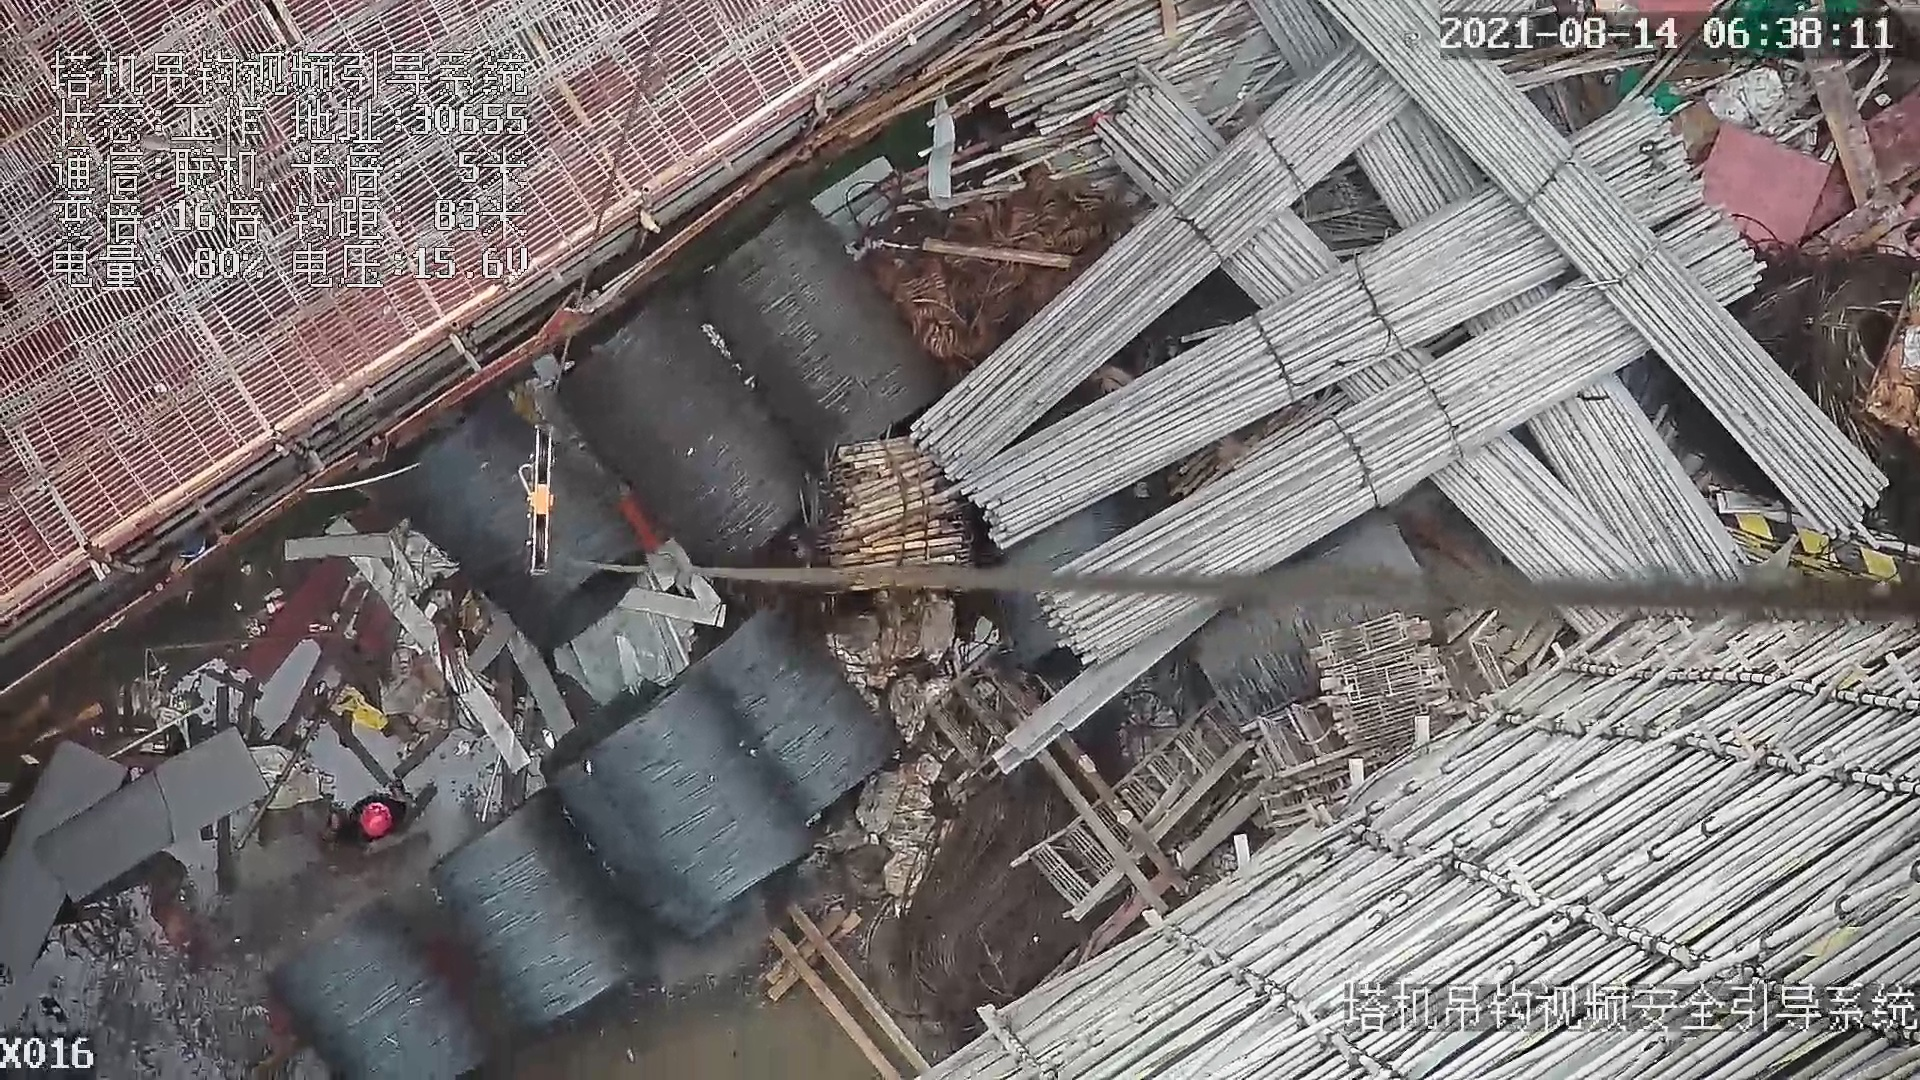helmet: (359, 799, 399, 846)
hook: (514, 418, 563, 582)
person: (326, 780, 438, 860)
scaffold: (949, 32, 1876, 578), (812, 446, 1006, 574)
